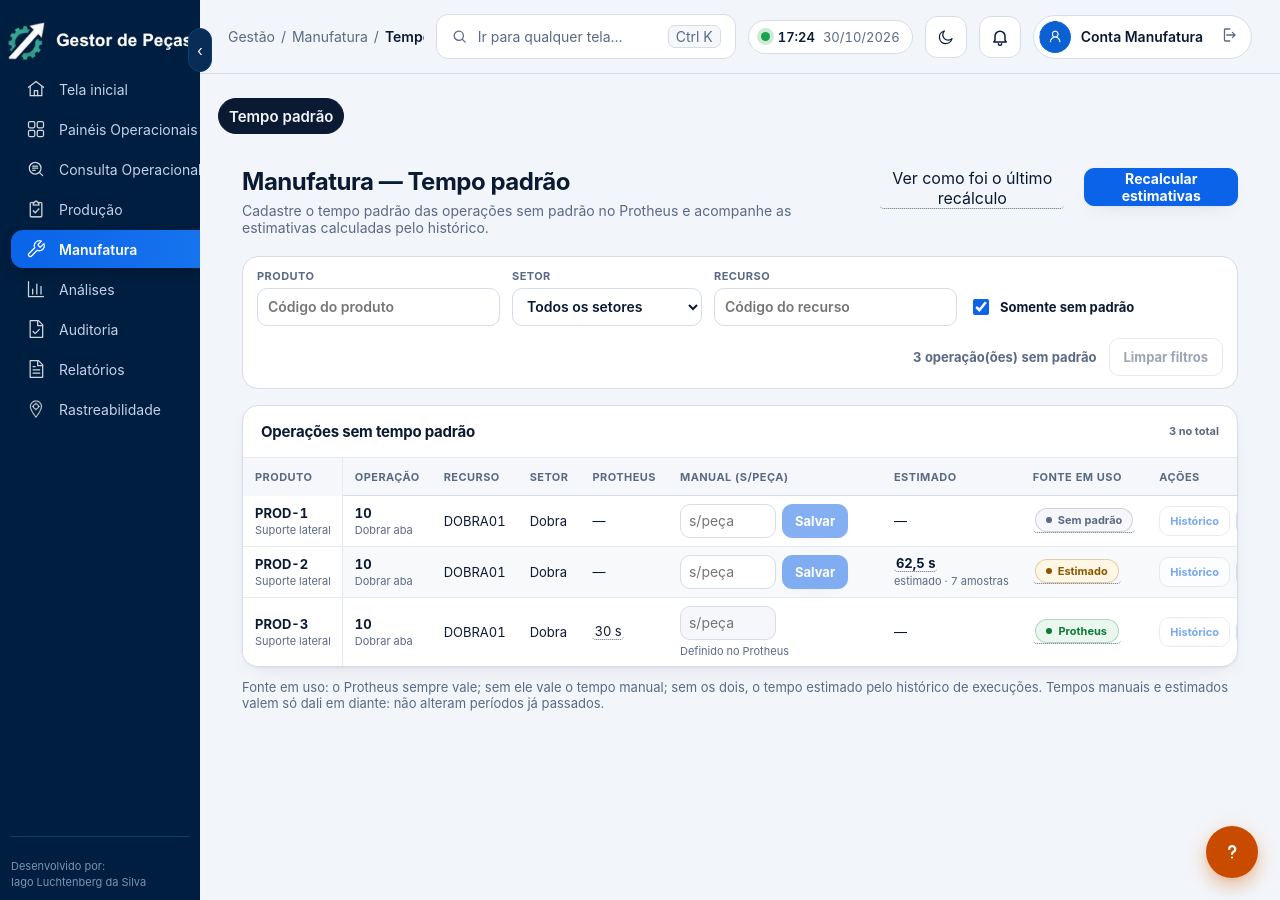
Scenario: Tempo padrão — tela › recalcular estimativas mostra o resumo humanizado, sem JSON cru
This screenshot has width=1280, height=900.
Expected: the text "PROD-1" is shown, x1=255 y1=505 x2=308 y2=521
Click the button "Recalcular estimativas". click: [1161, 187]
box: x1=1084 y1=168 x2=1238 y2=206
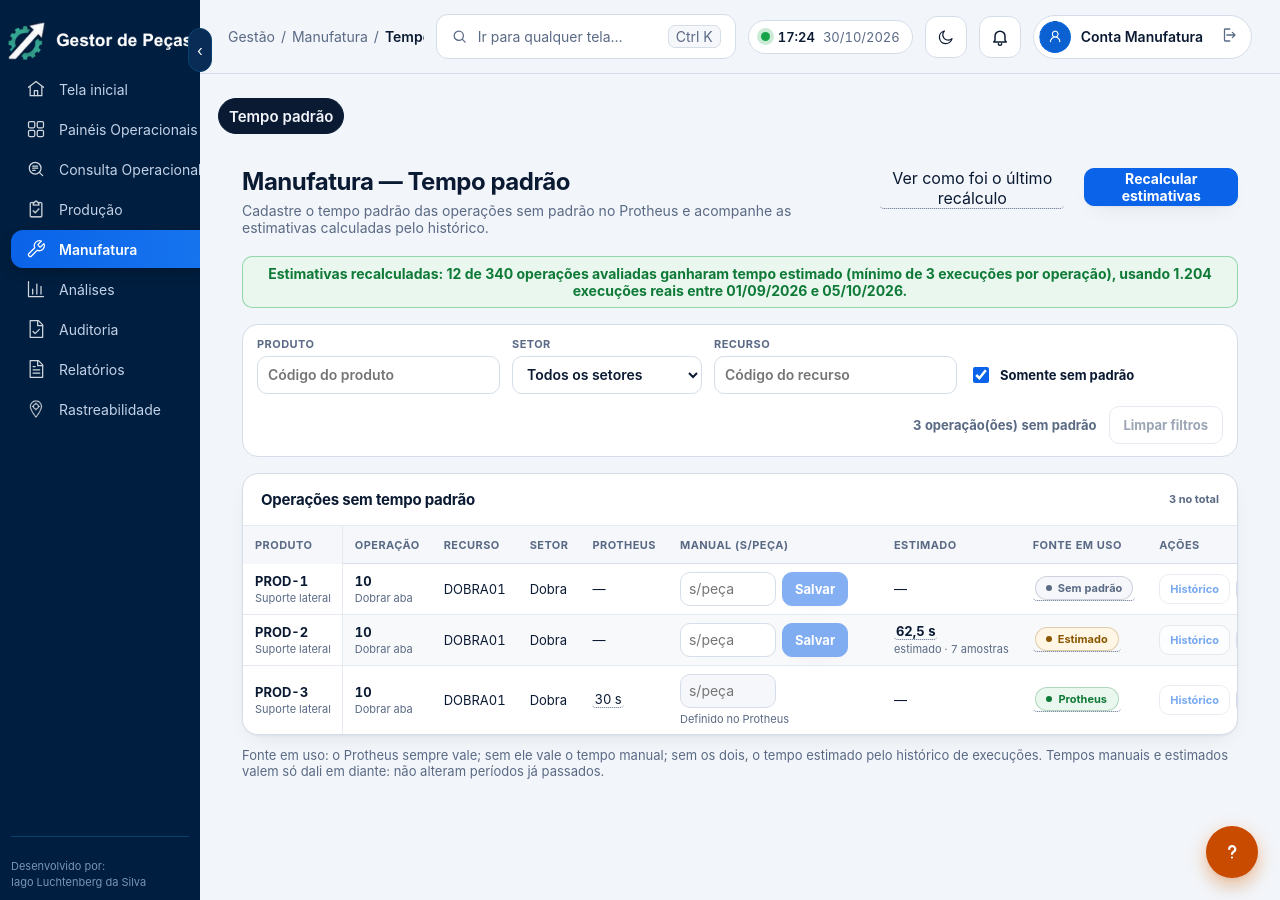
Now the text "Estimativas recalculadas: 12 de 340 operações avaliadas" shows "1.204 execuções reais", box x1=268 y1=265 x2=1212 y2=299
